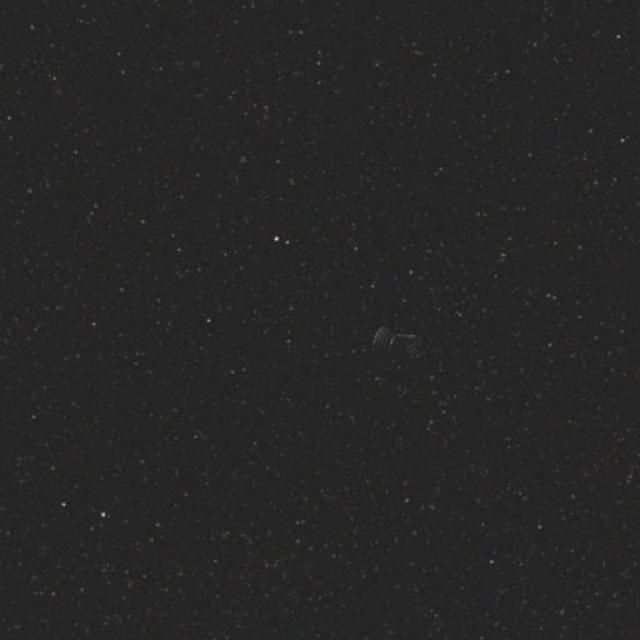debris: (360, 318, 433, 377)
